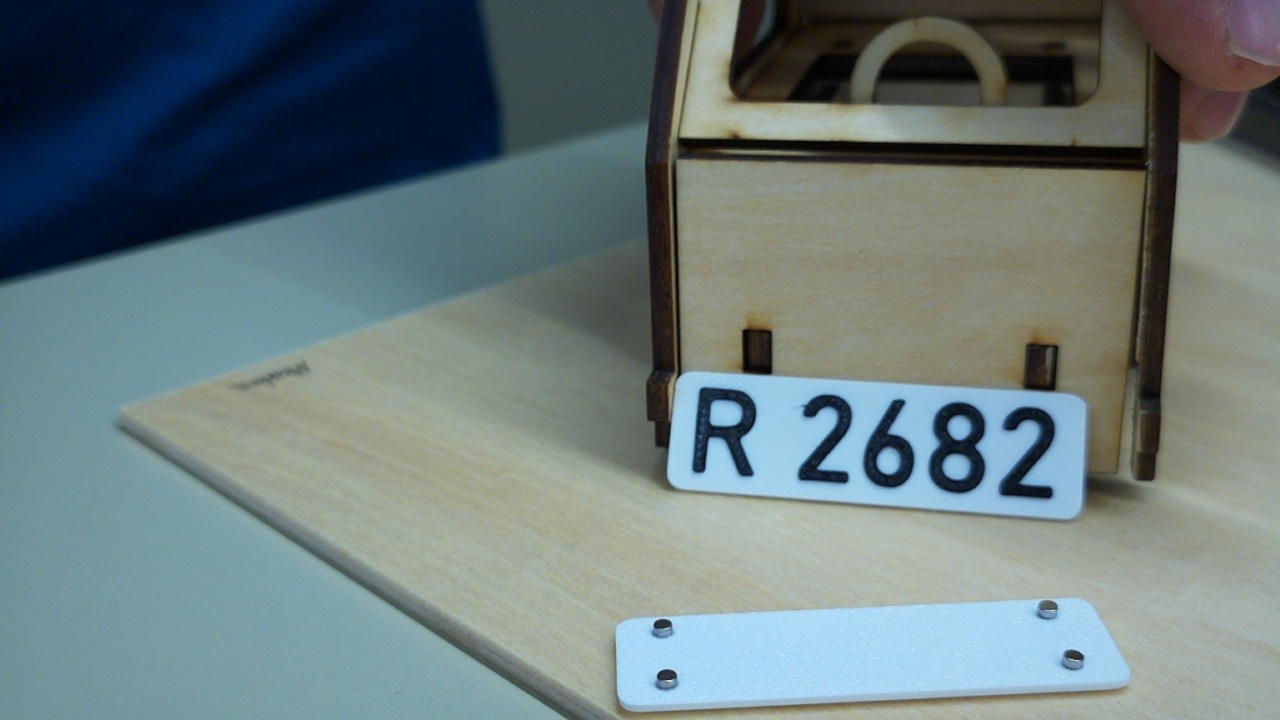license_plate: (664, 369, 1089, 523)
